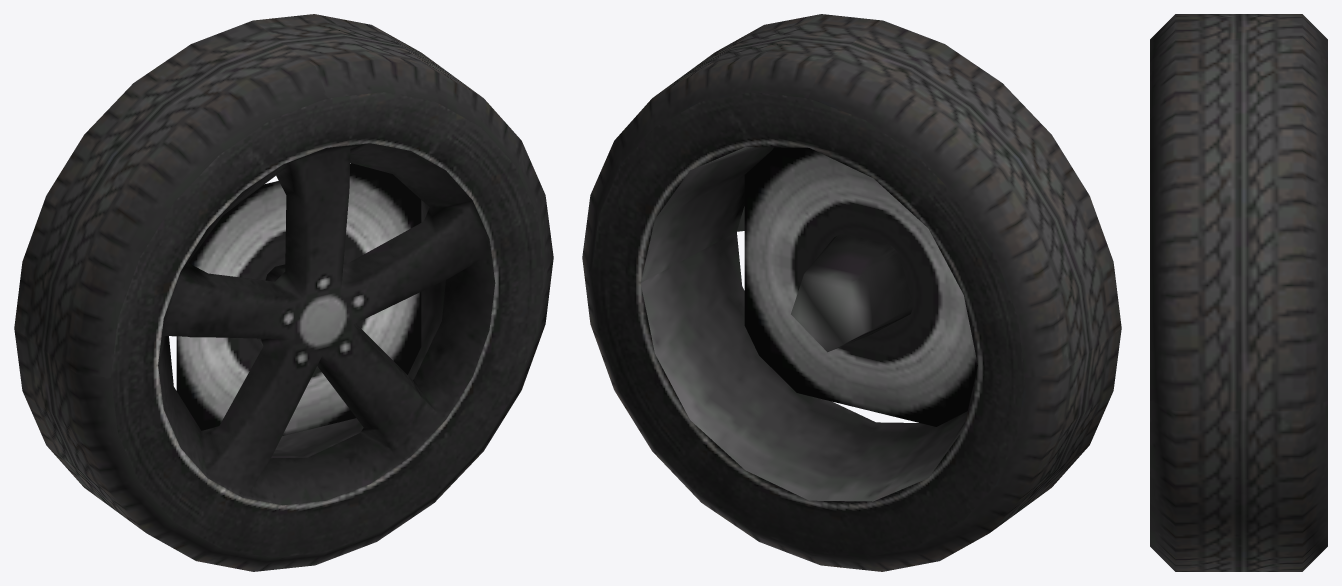
File: V_A_2DrCoupe_Wheels_12_SkeletalMesh3_SkeletalMesh_26.psk.glb
3 renders of one model, left to right at view 1: azimuth 30°, elevation 25°; view 2: azimuth 150°, elevation 25°; view 3: azimuth 270°, elevation 25°, orthographic.
Bounding box in the file's own units: 68.85 × 68.85 × 21.84.
1 material, 1 textured.
